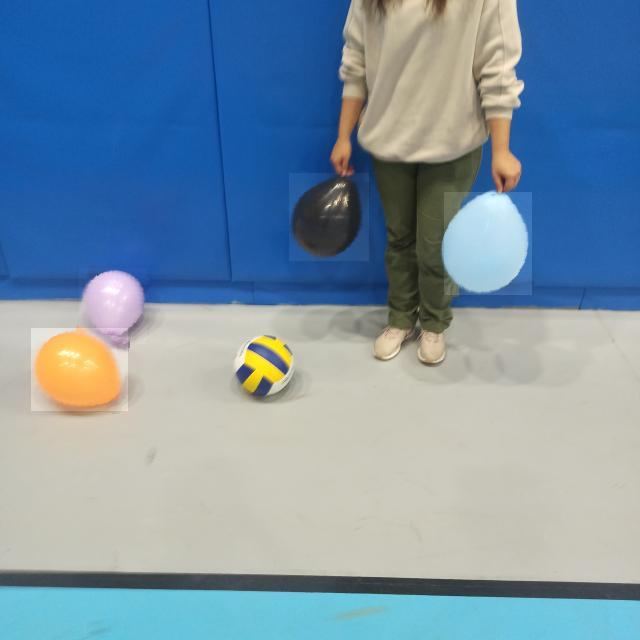balloon: (444, 192, 532, 295), (31, 328, 128, 411), (289, 173, 369, 261), (79, 268, 147, 344)
